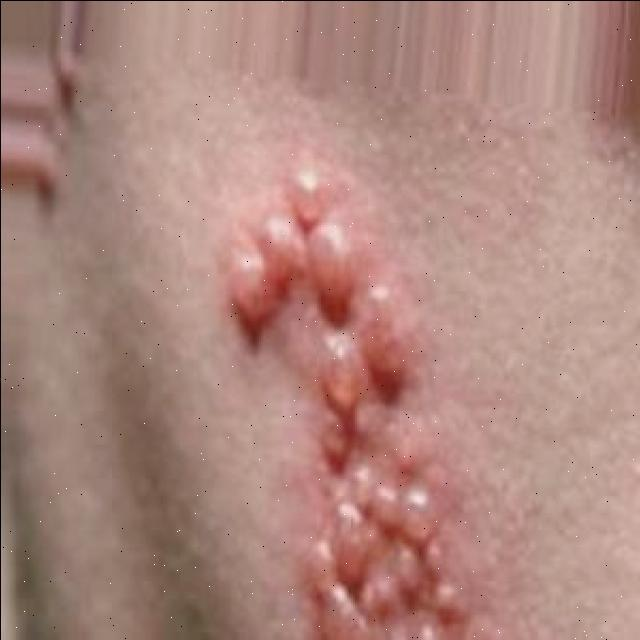Shingles: (231, 172, 464, 640)
